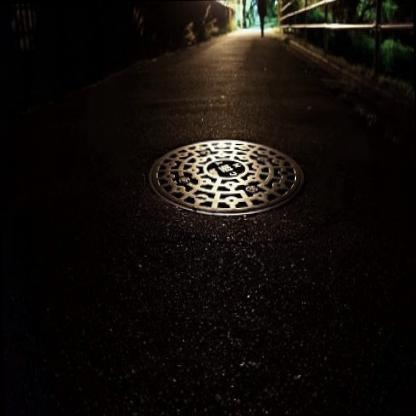manholes: (141, 119, 311, 236)
